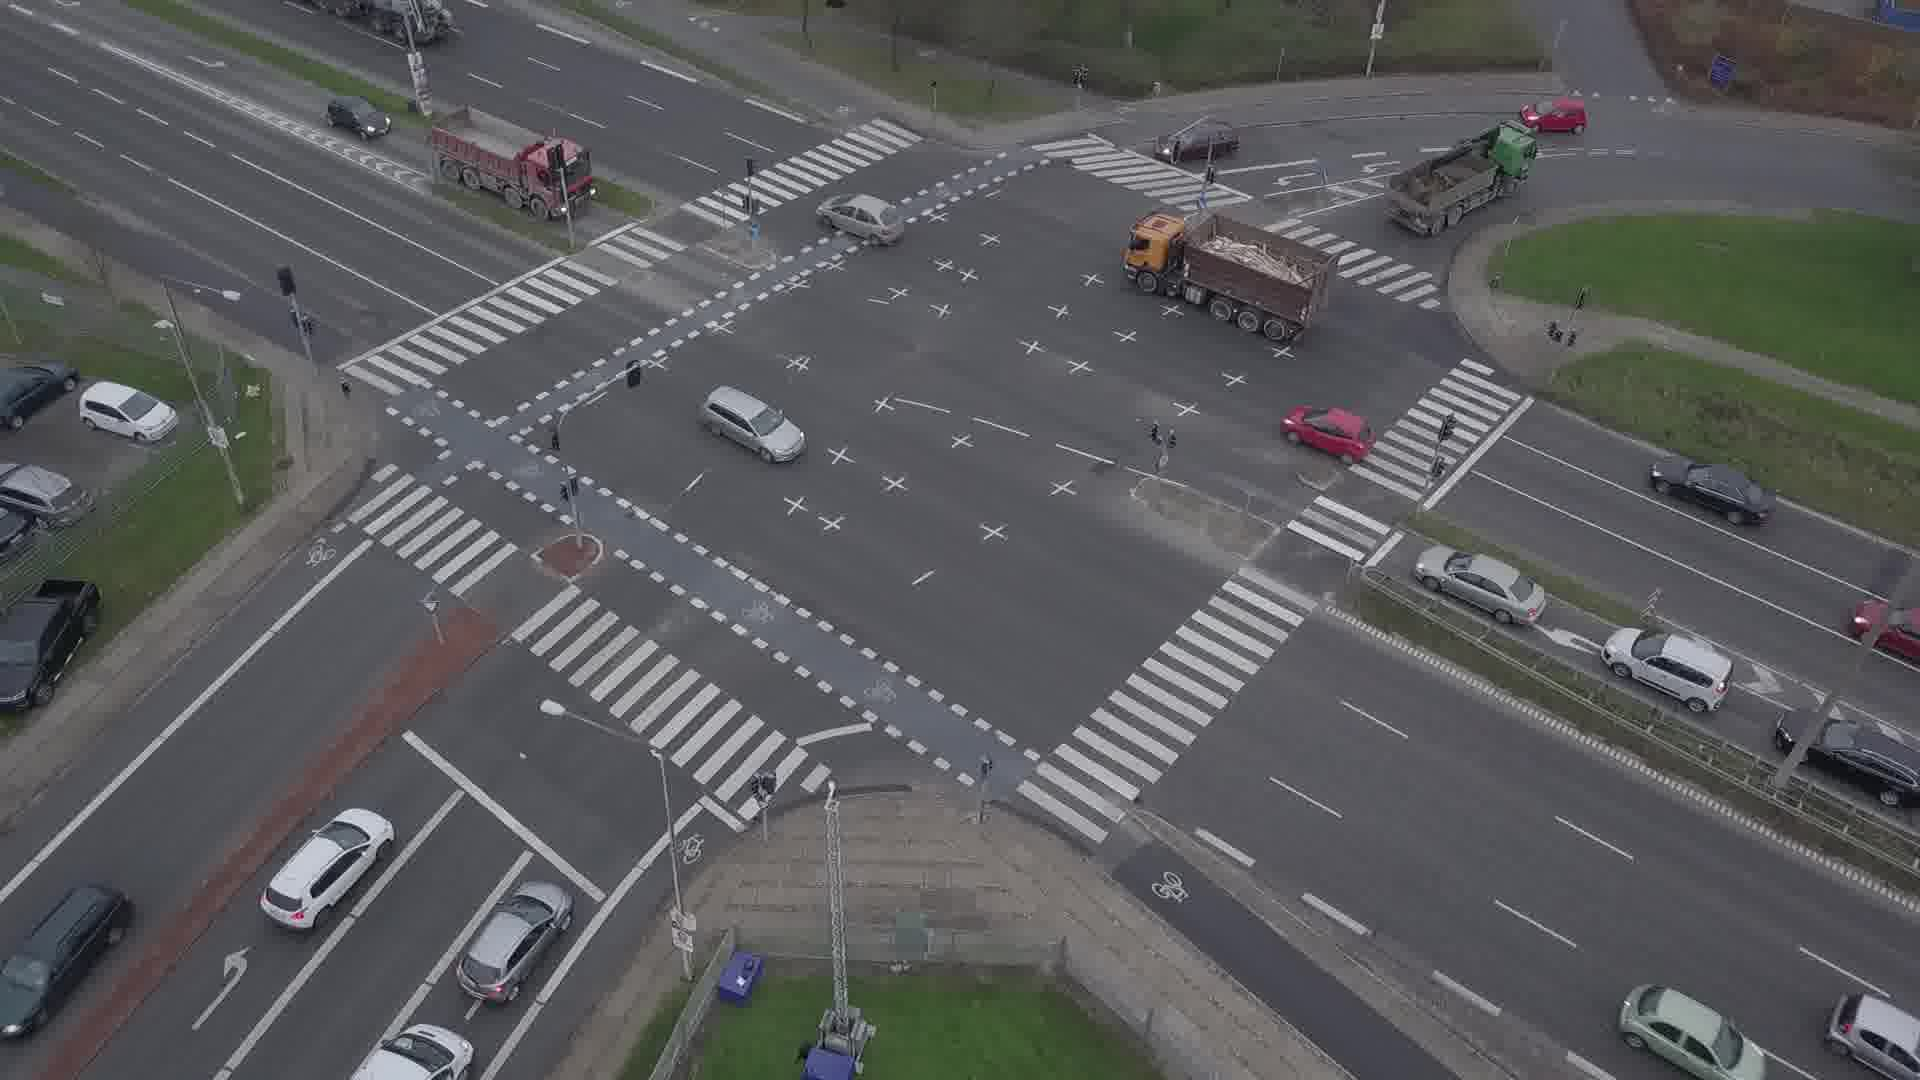car: (0, 882, 135, 1039), (260, 808, 396, 929), (456, 881, 574, 1004), (1776, 709, 1920, 807), (1619, 984, 1764, 1080), (1599, 627, 1737, 713), (1416, 545, 1548, 626), (1649, 454, 1776, 526), (1825, 993, 1920, 1080), (703, 384, 805, 462), (1281, 406, 1374, 465), (1854, 599, 1920, 677), (816, 194, 905, 245), (325, 94, 391, 141), (1157, 121, 1239, 158), (1521, 97, 1587, 134)
